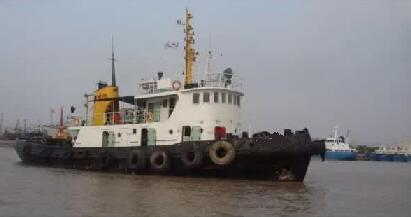otherboat: (9, 27, 329, 182)
